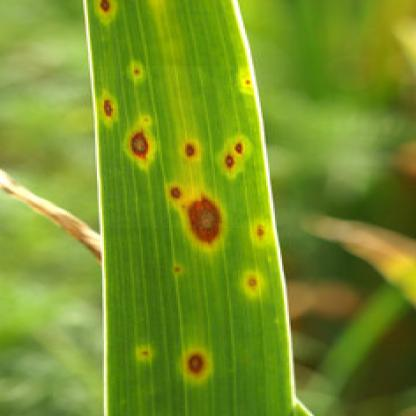black-spot: (97, 66, 252, 228)
